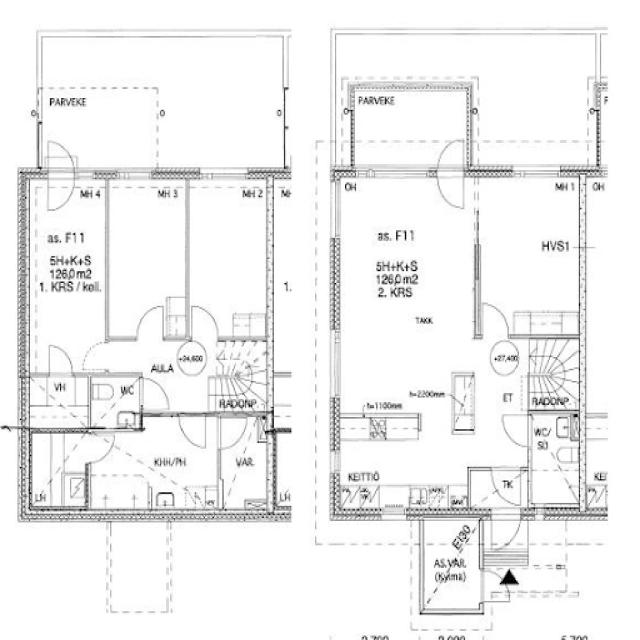door: (88, 372, 146, 432), (42, 138, 78, 215), (435, 138, 467, 212), (488, 463, 528, 508), (174, 410, 212, 453), (132, 299, 167, 345), (138, 372, 174, 416), (496, 410, 534, 450), (488, 508, 522, 552), (43, 339, 76, 380), (478, 299, 511, 338), (83, 428, 118, 464), (190, 302, 220, 342), (82, 337, 111, 375), (472, 220, 489, 250)
window: (326, 323, 346, 402), (325, 183, 344, 246), (196, 164, 252, 185), (368, 164, 432, 181), (512, 164, 564, 182), (114, 163, 154, 184), (74, 166, 98, 182)
zone: (333, 166, 476, 412), (476, 174, 586, 339), (24, 182, 108, 371), (106, 174, 189, 340), (187, 175, 270, 338), (88, 421, 222, 513), (420, 512, 481, 618), (106, 519, 170, 616), (528, 406, 582, 516), (218, 412, 274, 514), (26, 429, 89, 512), (580, 411, 628, 515), (24, 374, 90, 430), (218, 337, 270, 403), (87, 372, 143, 430)
